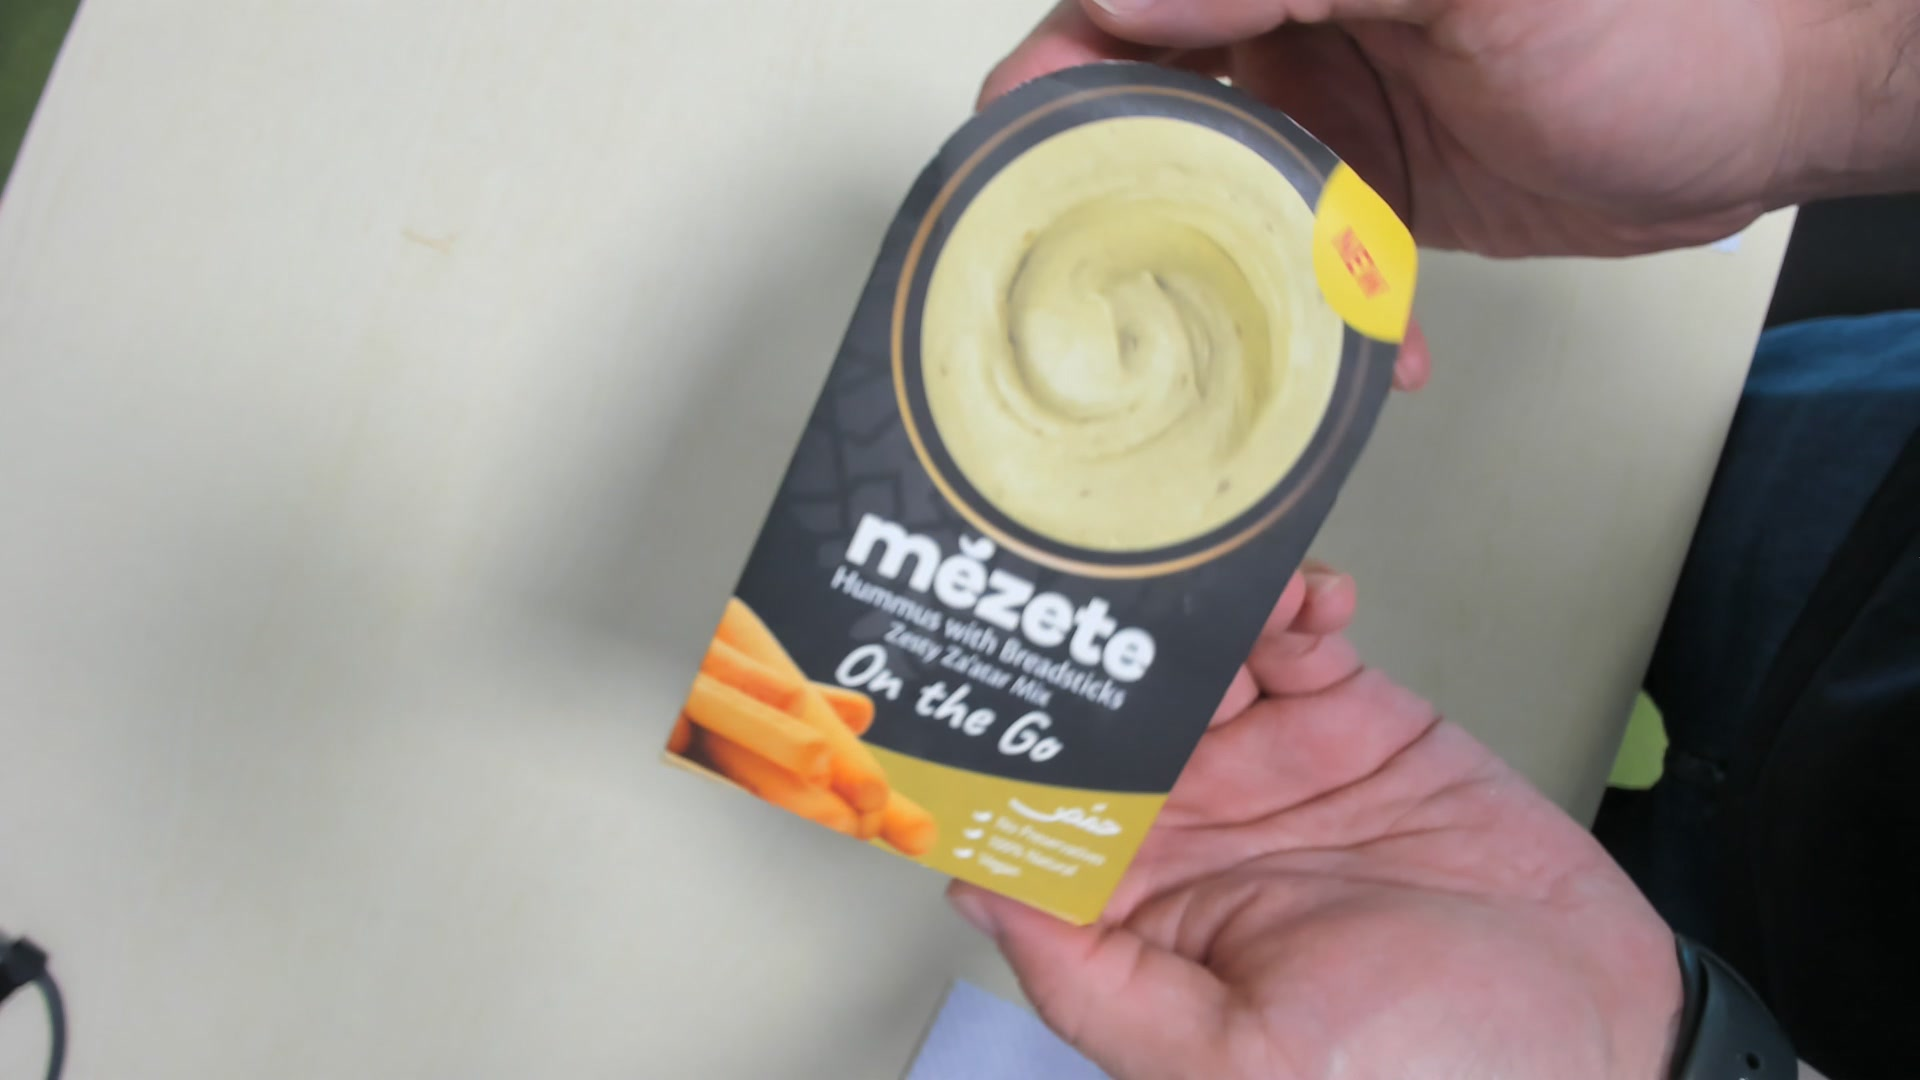InstantMeals_0-99g_NonHalal_NonHealthy: (659, 54, 1418, 926)
